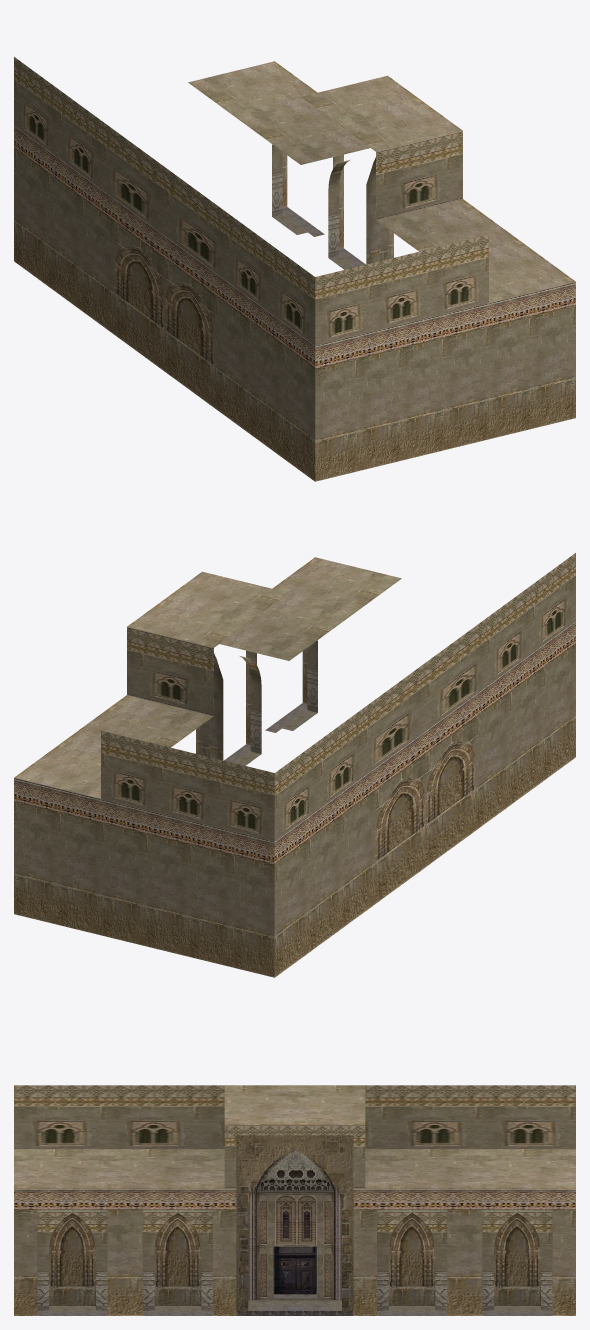
Rendered from M7Z2_InnerMosque.glb.
The picture shows the model from 3 angles, top to bottom: view 1: azimuth 30°, elevation 25°; view 2: azimuth 150°, elevation 25°; view 3: azimuth 270°, elevation 25°; orthographic projection. The views are drawn at different scales.
Visible parts, largest first — view 1: M7Z2_INNERMOSQUE; view 2: M7Z2_INNERMOSQUE; view 3: M7Z2_INNERMOSQUE.
Part boxes in pixels (<box>): M7Z2_INNERMOSQUE: <box>14,57,575,481</box>; M7Z2_INNERMOSQUE: <box>14,553,575,977</box>; M7Z2_INNERMOSQUE: <box>14,1085,575,1315</box>.
Size of the model in its own units: 12 by 9 by 24.
Materials: 8 (8 with a texture image).
